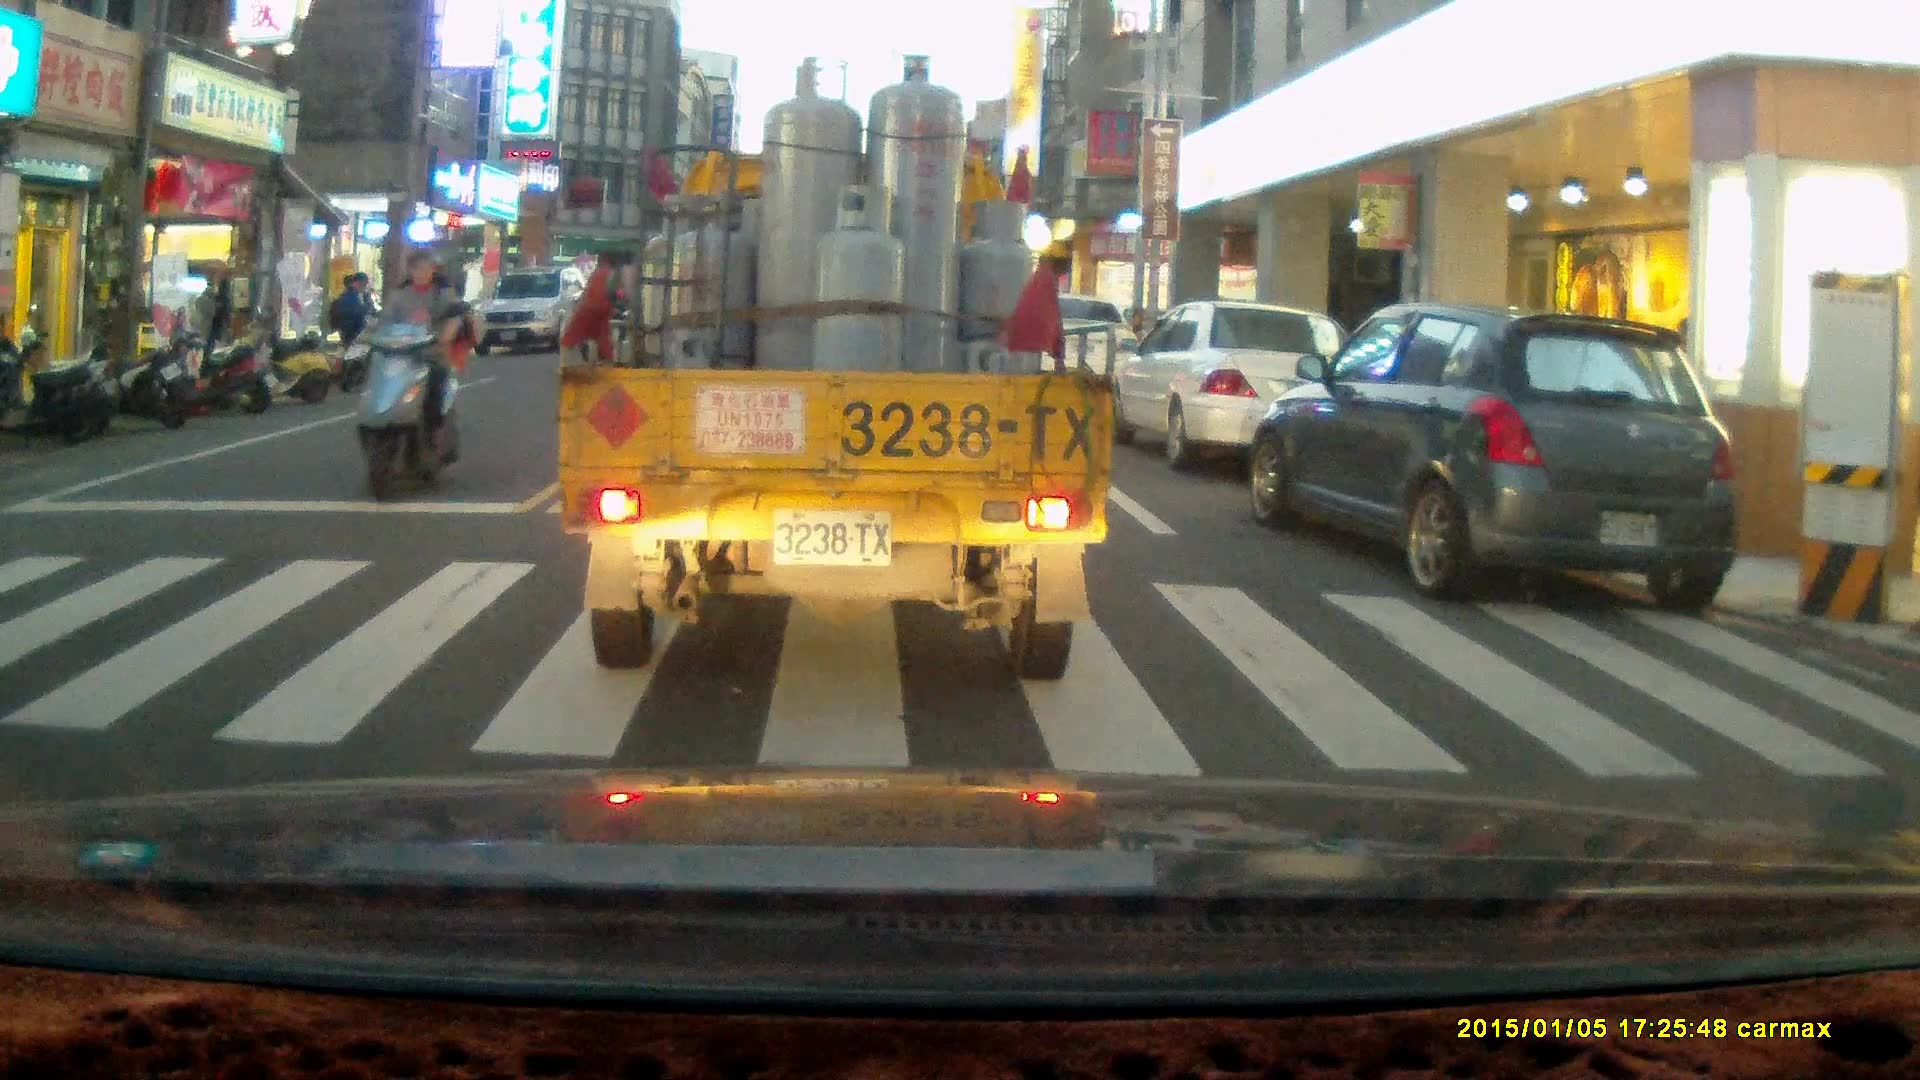pedestrian: (333, 267, 370, 378), (438, 278, 481, 369), (193, 272, 226, 376)
rider: (343, 241, 465, 506)
vehicle: (556, 61, 1114, 679), (1244, 296, 1744, 611), (1112, 301, 1360, 476), (993, 295, 1156, 429), (469, 268, 585, 360)
